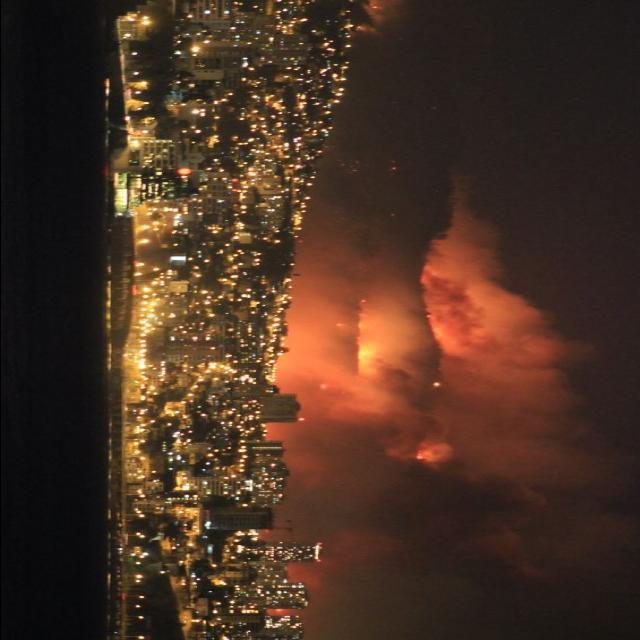Fire: (354, 308, 386, 376), (414, 448, 438, 460), (270, 607, 288, 614)
